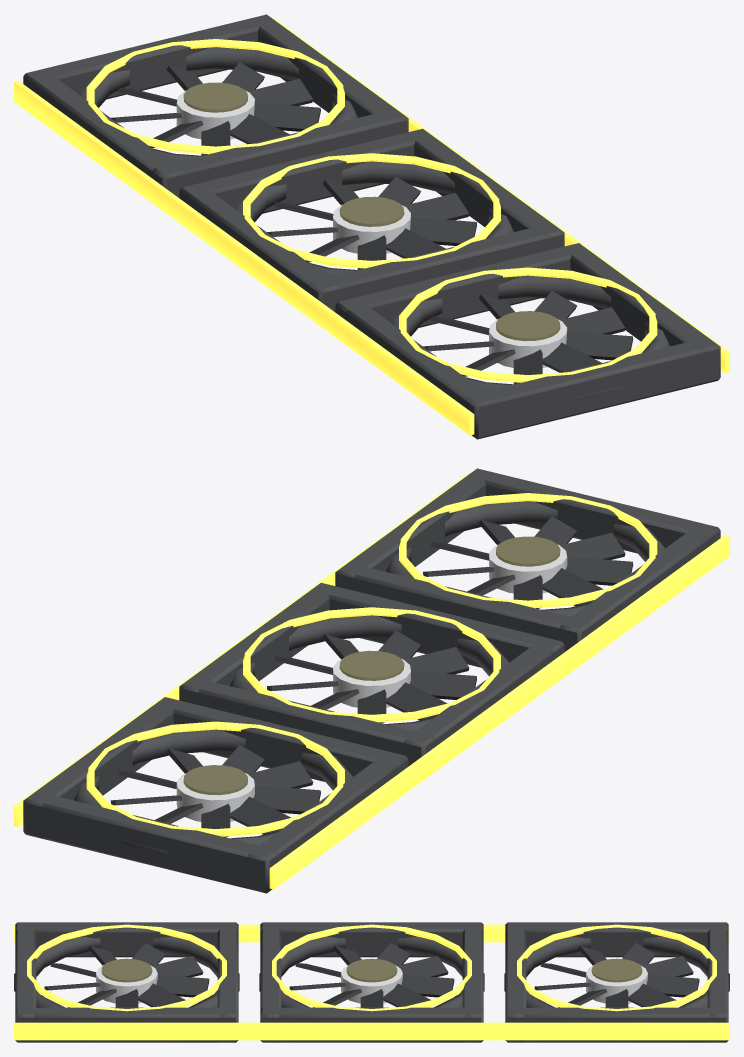
The model's file is acc_unifan_lcd.glb.
3 renders of one model, top to bottom at view 1: azimuth 30°, elevation 25°; view 2: azimuth 150°, elevation 25°; view 3: azimuth 270°, elevation 25°, orthographic. The views are drawn at different scales.
Visible parts, largest first — view 1: Acc_UniFan_Frames, RGB_UniFan_SideL, SpinFan_UniFan_0_Y, SpinFan_UniFan_2_Y, SpinFan_UniFan_1_Y, RGB_UniFan_2, RGB_UniFan_0, RGB_UniFan_1, LCD_UniFan_2, LCD_UniFan_1, LCD_UniFan_0, RGB_UniFan_SideR; view 2: Acc_UniFan_Frames, RGB_UniFan_SideL, SpinFan_UniFan_2_Y, SpinFan_UniFan_0_Y, SpinFan_UniFan_1_Y, RGB_UniFan_0, RGB_UniFan_2, RGB_UniFan_1, LCD_UniFan_0, LCD_UniFan_1, LCD_UniFan_2, RGB_UniFan_SideR; view 3: Acc_UniFan_Frames, RGB_UniFan_SideR, SpinFan_UniFan_2_Y, SpinFan_UniFan_1_Y, SpinFan_UniFan_0_Y, RGB_UniFan_1, RGB_UniFan_0, RGB_UniFan_2, LCD_UniFan_0, LCD_UniFan_1, LCD_UniFan_2, RGB_UniFan_SideL.
Part boxes in pixels (x1=…): Acc_UniFan_Frames: x1=23, y1=14, x2=720, y2=439; RGB_UniFan_SideL: x1=14, y1=81, x2=474, y2=435; SpinFan_UniFan_0_Y: x1=423, y1=291, x2=633, y2=384; SpinFan_UniFan_2_Y: x1=111, y1=62, x2=320, y2=155; SpinFan_UniFan_1_Y: x1=267, y1=176, x2=476, y2=269; RGB_UniFan_2: x1=86, y1=39, x2=344, y2=154; RGB_UniFan_0: x1=399, y1=267, x2=657, y2=382; RGB_UniFan_1: x1=243, y1=153, x2=500, y2=268; LCD_UniFan_2: x1=183, y1=82, x2=247, y2=112; LCD_UniFan_1: x1=339, y1=196, x2=404, y2=226; LCD_UniFan_0: x1=496, y1=311, x2=560, y2=341; RGB_UniFan_SideR: x1=273, y1=18, x2=729, y2=372; Acc_UniFan_Frames: x1=23, y1=468, x2=720, y2=893; RGB_UniFan_SideL: x1=269, y1=535, x2=729, y2=889; SpinFan_UniFan_2_Y: x1=110, y1=745, x2=320, y2=837; SpinFan_UniFan_0_Y: x1=423, y1=516, x2=633, y2=608; SpinFan_UniFan_1_Y: x1=267, y1=630, x2=476, y2=723; RGB_UniFan_0: x1=399, y1=493, x2=657, y2=608; RGB_UniFan_2: x1=86, y1=721, x2=344, y2=836; RGB_UniFan_1: x1=243, y1=607, x2=500, y2=722; LCD_UniFan_0: x1=496, y1=536, x2=560, y2=566; LCD_UniFan_1: x1=339, y1=650, x2=404, y2=680; LCD_UniFan_2: x1=183, y1=765, x2=247, y2=795; RGB_UniFan_SideR: x1=14, y1=472, x2=470, y2=826; Acc_UniFan_Frames: x1=14, y1=922, x2=729, y2=1042; RGB_UniFan_SideR: x1=14, y1=1022, x2=729, y2=1040; SpinFan_UniFan_2_Y: x1=534, y1=943, x2=699, y2=1007; SpinFan_UniFan_1_Y: x1=289, y1=943, x2=454, y2=1007; SpinFan_UniFan_0_Y: x1=44, y1=943, x2=209, y2=1007; RGB_UniFan_1: x1=272, y1=924, x2=471, y2=1011; RGB_UniFan_0: x1=27, y1=924, x2=226, y2=1011; RGB_UniFan_2: x1=517, y1=924, x2=716, y2=1011; LCD_UniFan_0: x1=101, y1=958, x2=152, y2=982; LCD_UniFan_1: x1=346, y1=958, x2=397, y2=982; LCD_UniFan_2: x1=591, y1=958, x2=642, y2=982; RGB_UniFan_SideL: x1=14, y1=924, x2=729, y2=942.
Bounding box in the file's own units: 0.984 × 0.1358 × 2.98.
